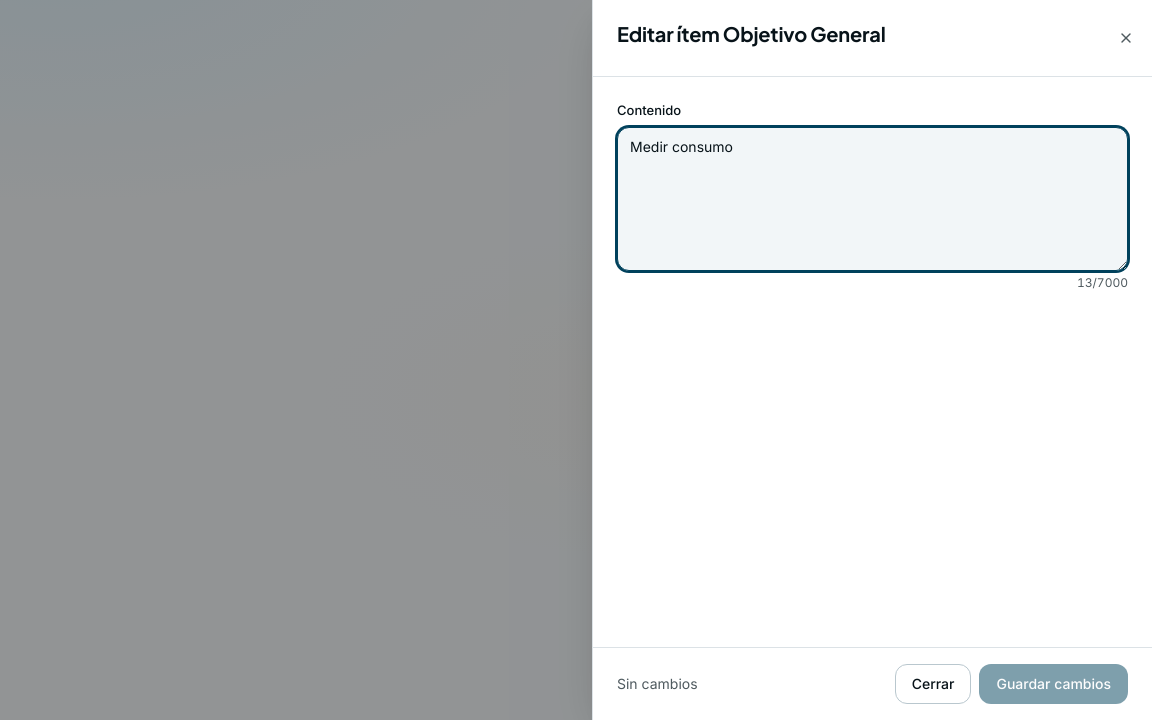
EditarItemForm › con el contenido vacío pinta el error al salir del campo, sin apagar el botón, y no envía
Clear the text box labelled "Contenido" at x=872, y=198, box top-left (617, 126), bottom-right (1128, 270)
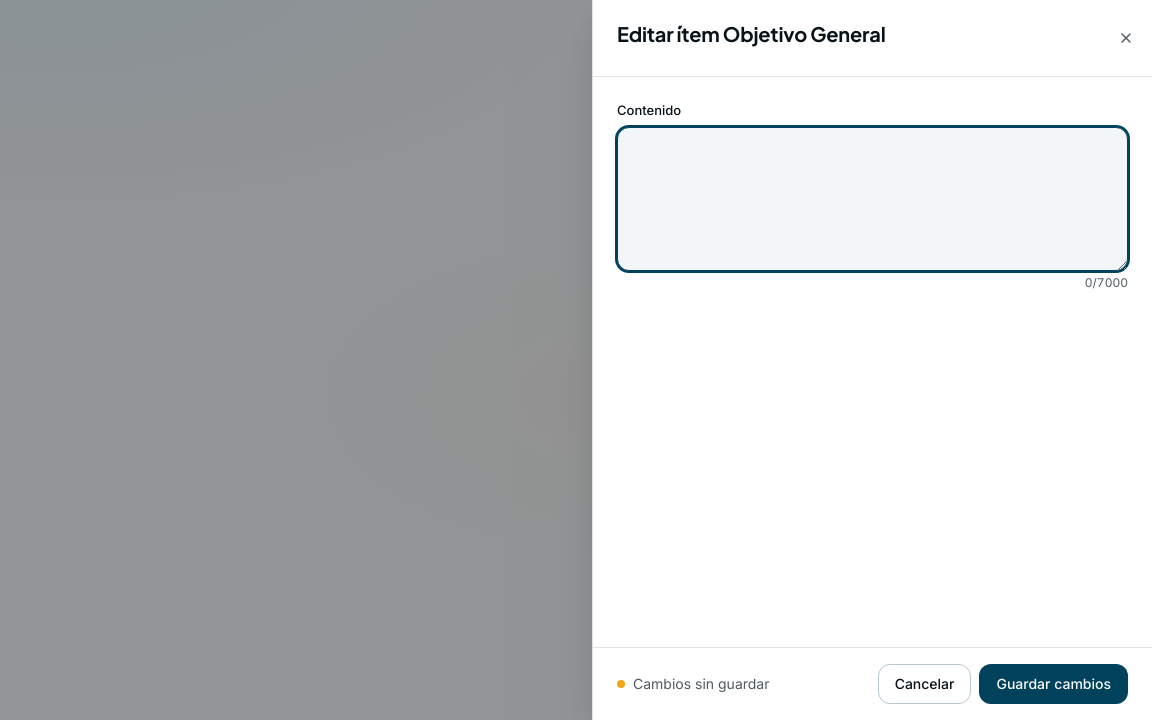
Press Tab
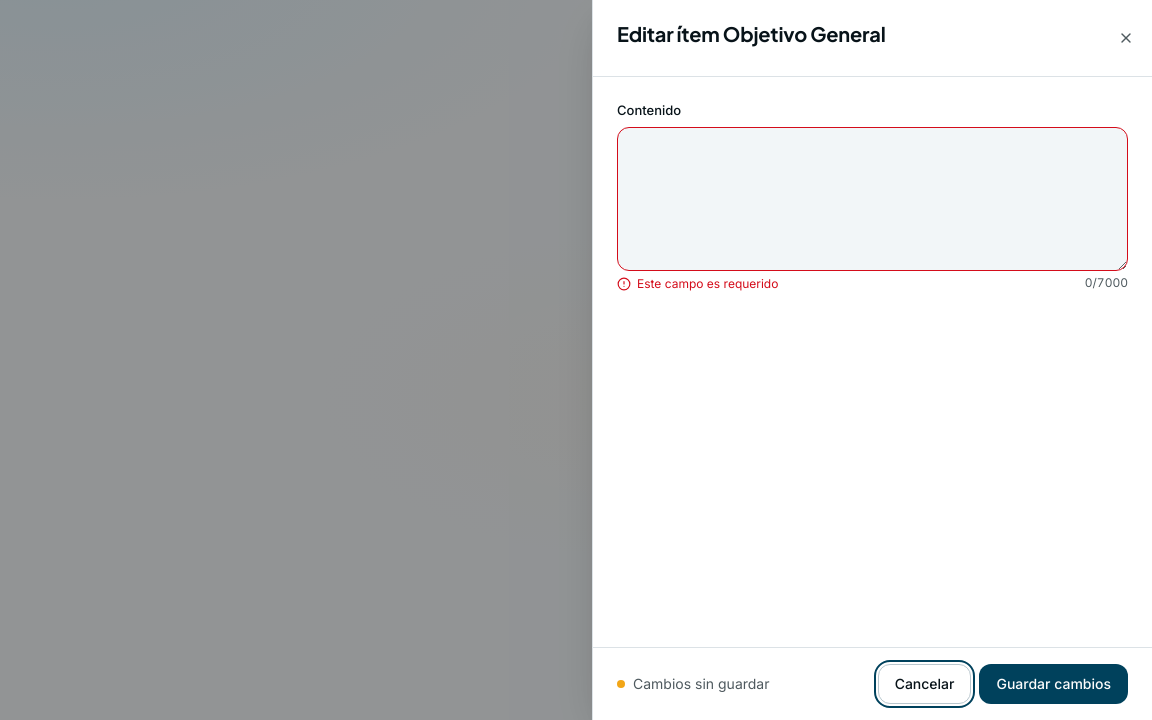
Click the button "Guardar cambios" at x=1054, y=684, box top-left (980, 664), bottom-right (1128, 704)
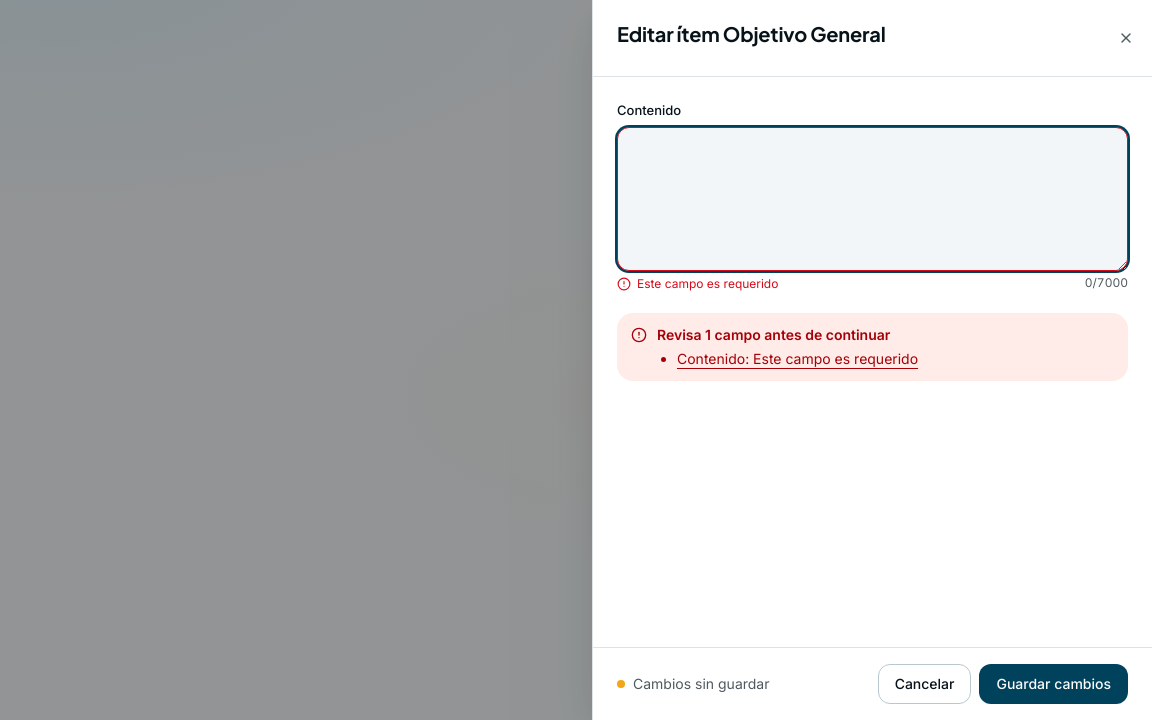
Expected: the text "Revisa 1 campo antes de continuar" is shown, top-left (657, 324), bottom-right (918, 344)
